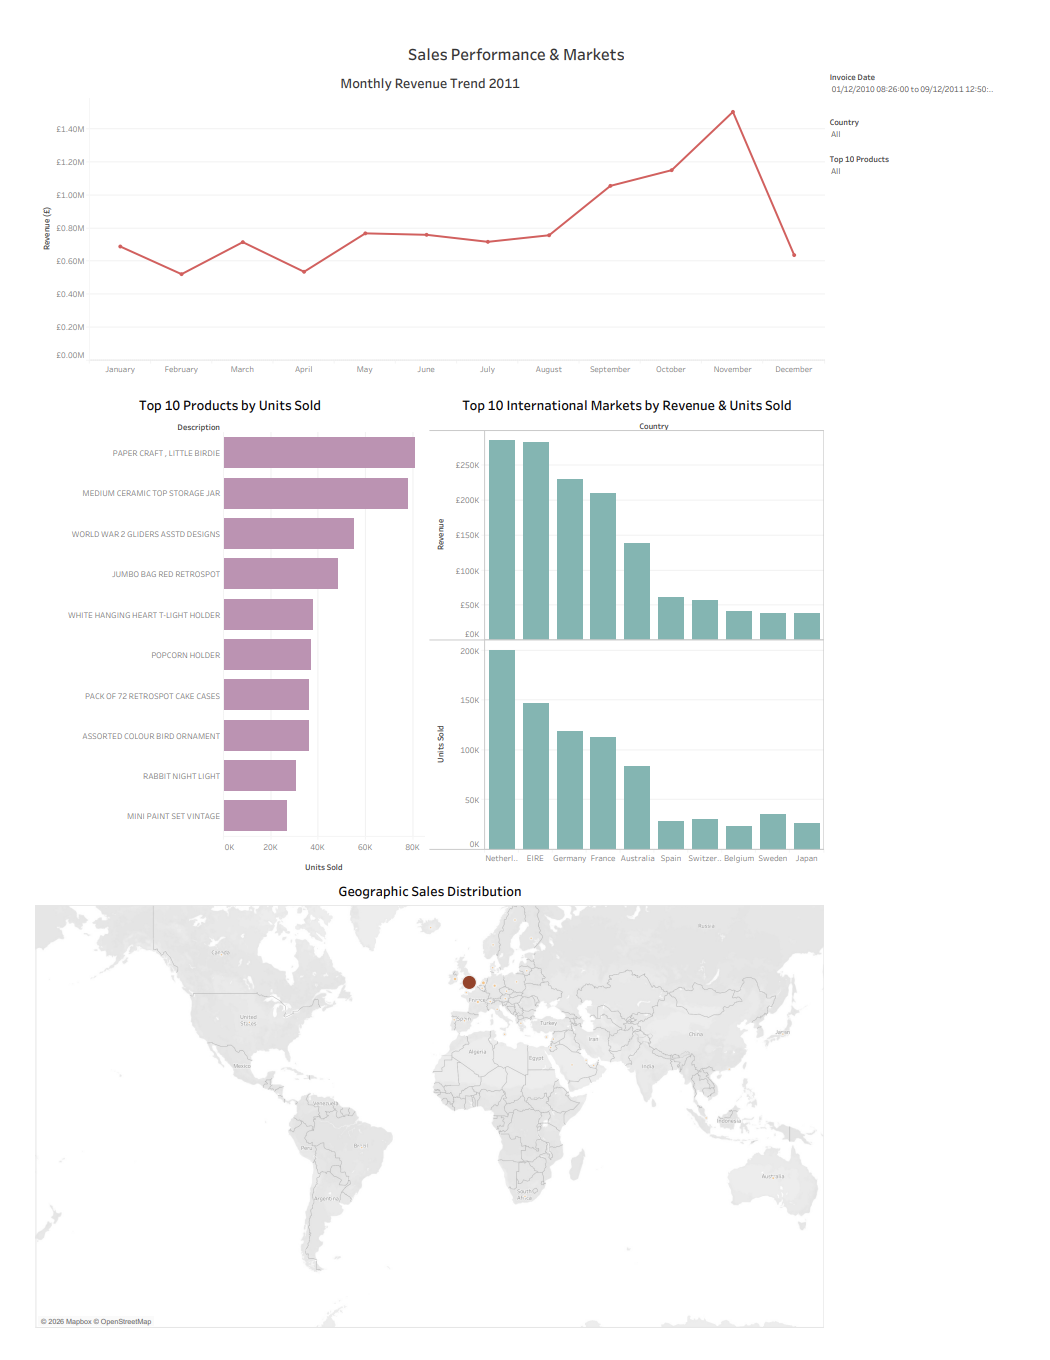

Layout of this report page (visuals, bound fields, positions):
{"tool":"tableau","page":{"name":"Sales Performance & Markets","canvas":[1000,1000],"units":"permille","ordinal":1},"visuals":[{"type":"title","box":[5.3,4,989.3,20.5]},{"type":"worksheet","title":"Monthly Revenue Trend","mark":"Automatic","rows":["Revenue"],"cols":["InvoiceDate"],"box":[5.3,24.5,812.7,247.3]},{"type":"filter","title":"Monthly Revenue Trend","param":"[federated.15zuz3g19p58go1eum9kl0vwgsky].[none:InvoiceDate:qk]","box":[818,24.5,176.7,34.5]},{"type":"filter","title":"Geographic Sales Distribution","param":"[federated.15zuz3g19p58go1eum9kl0vwgsky].[none:Country:nk]","box":[818,59,176.7,26]},{"type":"filter","title":"Top 10 Products by Quantity Sold","param":"[federated.15zuz3g19p58go1eum9kl0vwgsky].[none:Description:nk]","box":[818,85,176.7,47]},{"type":"worksheet","title":"Top 10 Products by Quantity Sold","mark":"Automatic","rows":["Description"],"cols":["Quantity"],"box":[5.3,271.8,403.3,373.7]},{"type":"worksheet","title":"Top 10 International Markets by Revenue & Units Sold","mark":"Automatic","rows":["Revenue","Quantity"],"cols":["Country"],"box":[408.7,271.8,409.3,373.7]},{"type":"worksheet","title":"Geographic Sales Distribution","mark":"Automatic","box":[5.3,645.5,812.7,350.5]}]}

Visuals, with their boxes on the dashboard's canvas, which has no fixed pixel size, in thousandths of its width and height (x1, y1, x2, y2). These are canvas units, not pixel positions in the 1050x1360 screenshot, which may show the page scaled, cropped or inside an application window:
title: 5,4,995,24
"Monthly Revenue Trend" worksheet: 5,24,818,272
"Monthly Revenue Trend" filter: 818,24,995,59
"Geographic Sales Distribution" filter: 818,59,995,85
"Top 10 Products by Quantity Sold" filter: 818,85,995,132
"Top 10 Products by Quantity Sold" worksheet: 5,272,409,646
"Top 10 International Markets by Revenue & Units Sold" worksheet: 409,272,818,646
"Geographic Sales Distribution" worksheet: 5,646,818,996
